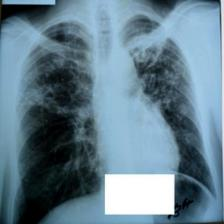tuberculosis: (7, 12, 220, 224)
